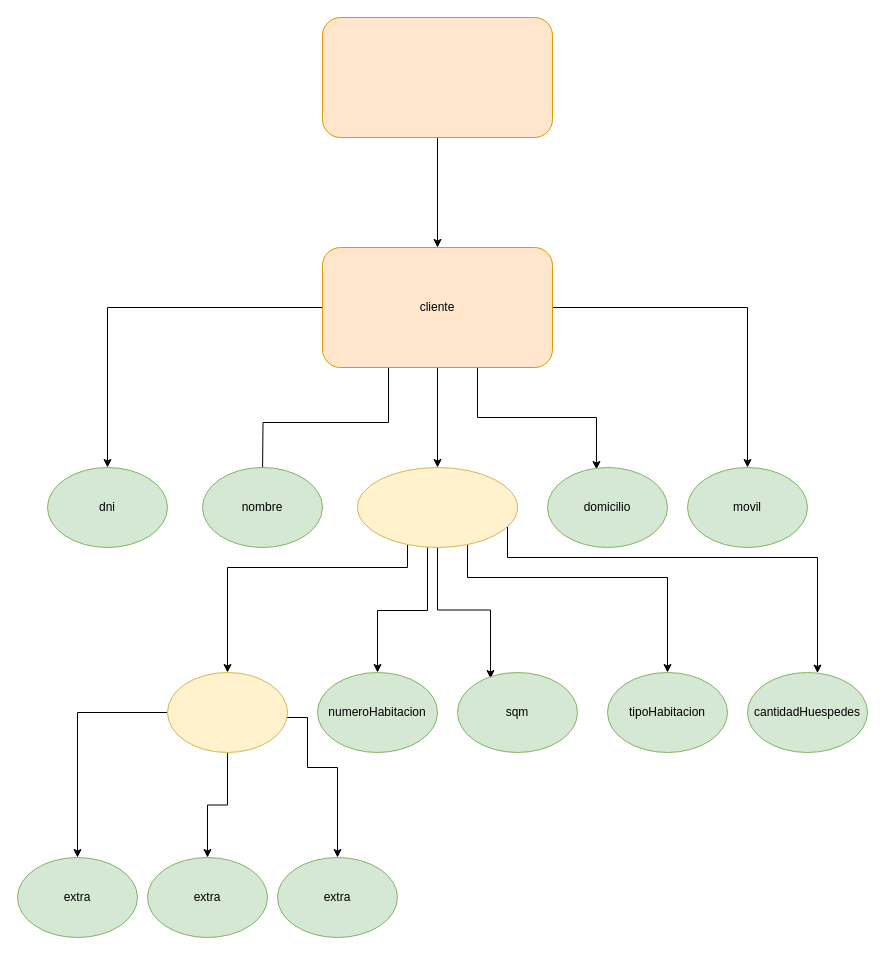
This 885x955 diagram has some shape labels left out. The shapes that lost their labels are listed below. From the top down, each one's centre as x and y in pixels, then its label:
(437,77): hotel
(437,507): habitacion
(227,712): Extras
